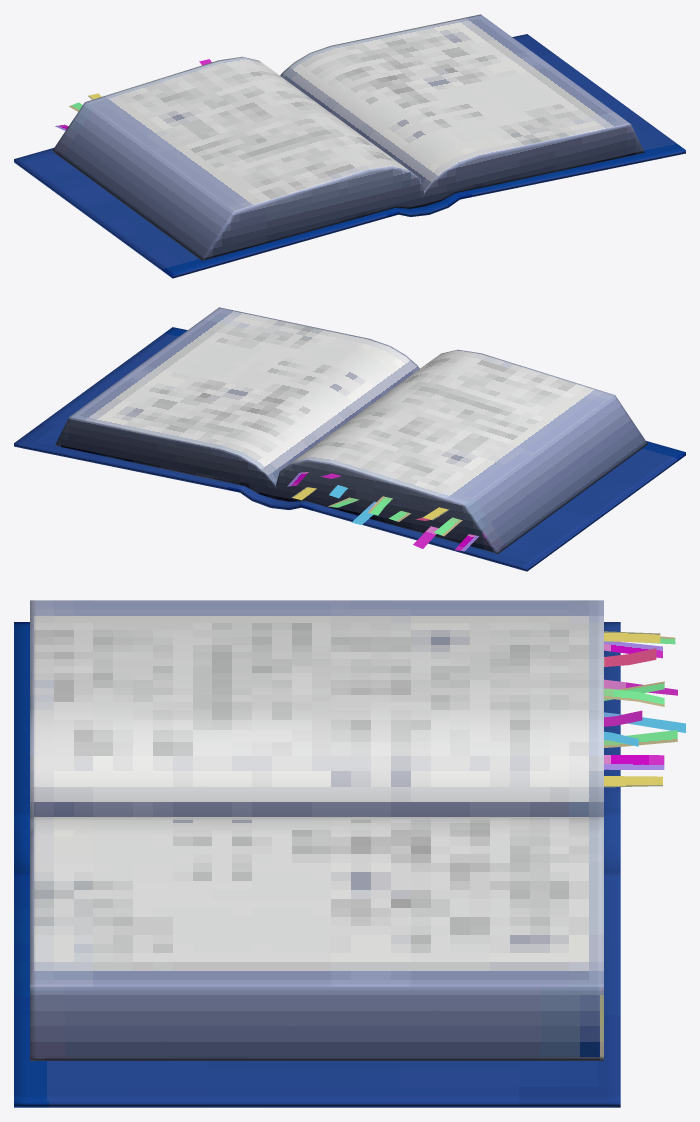
The model's file is a_w23_i_obj_binder03.gltf.
3 renders of one model, top to bottom at view 1: azimuth 30°, elevation 25°; view 2: azimuth 150°, elevation 25°; view 3: azimuth 270°, elevation 25°, orthographic. The views are drawn at different scales.
Visible parts, largest first — view 1: a_w23_i_obj_binder03_mesh_shape:a_w23_i_obj_binder03_main; view 2: a_w23_i_obj_binder03_mesh_shape:a_w23_i_obj_binder03_main; view 3: a_w23_i_obj_binder03_mesh_shape:a_w23_i_obj_binder03_main.
Part boxes in pixels (box(x1,y1,x2,y2)): a_w23_i_obj_binder03_mesh_shape:a_w23_i_obj_binder03_main: box(14, 14, 685, 278); a_w23_i_obj_binder03_mesh_shape:a_w23_i_obj_binder03_main: box(14, 307, 685, 571); a_w23_i_obj_binder03_mesh_shape:a_w23_i_obj_binder03_main: box(14, 600, 685, 1107).
Bounding box in the file's own units: 0.7838 × 0.0827 × 0.4648.
Materials: 1 (1 with a texture image).
